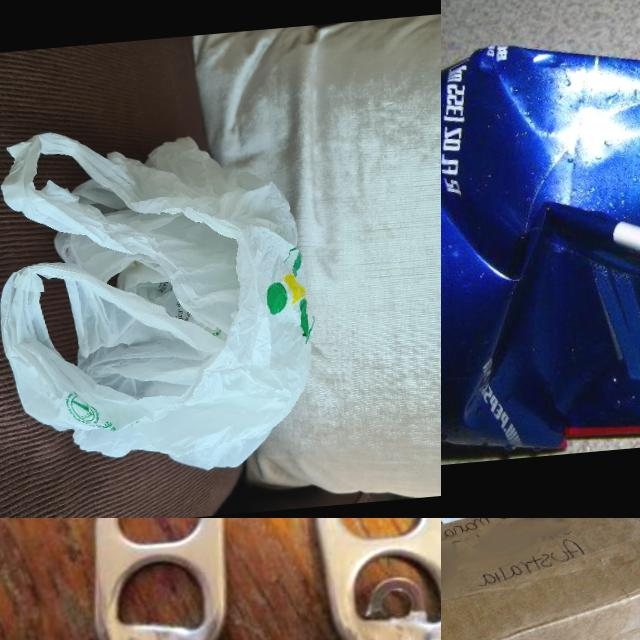aba de lata: (78, 518, 237, 640), (309, 518, 441, 640)
lata: (441, 0, 640, 466)
papelão: (441, 518, 640, 640)
sacola plástica: (0, 107, 329, 488)
